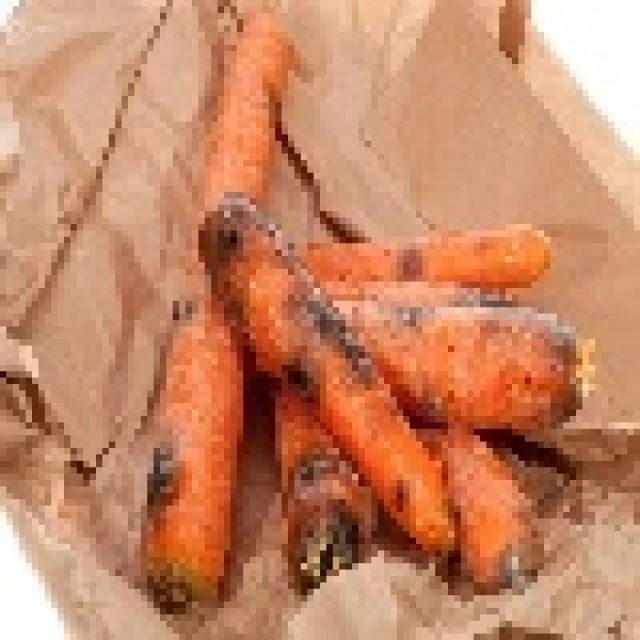Stale_Carrot: (205, 188, 369, 388), (111, 392, 243, 608), (442, 293, 584, 438), (281, 447, 363, 578), (366, 460, 470, 543), (369, 232, 448, 289)
